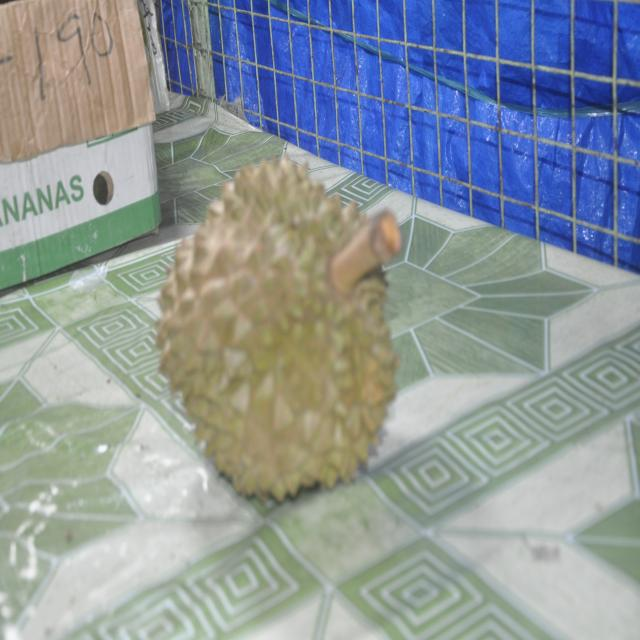mature: (157, 158, 401, 500)
